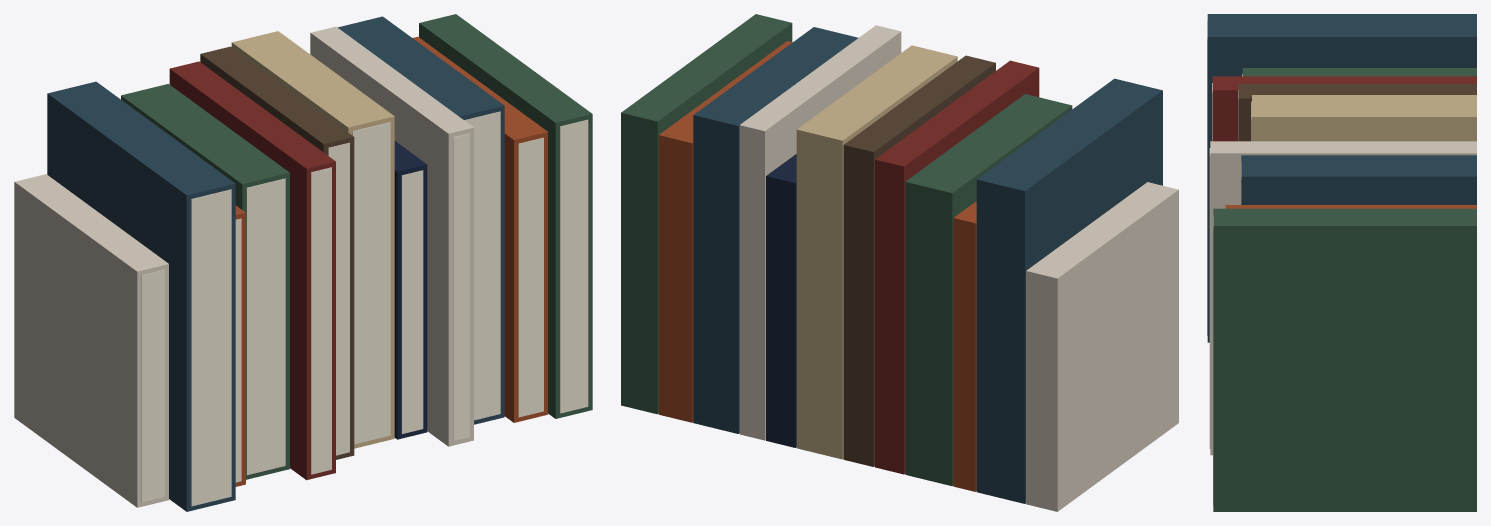
The model's file is ATL-BKR-std.glb.
3 renders of one model, left to right at view 1: azimuth 30°, elevation 25°; view 2: azimuth 150°, elevation 25°; view 3: azimuth 270°, elevation 25°, orthographic. The views are drawn at different scales.
Parts seen in each view (by area): view 1: ATL-BKR-std; view 2: ATL-BKR-std; view 3: ATL-BKR-std.
Part boxes in pixels (x1,y1,x2,y2): ATL-BKR-std: [14, 14, 592, 511]; ATL-BKR-std: [621, 14, 1178, 511]; ATL-BKR-std: [1207, 14, 1476, 511].
Size of the model in its own units: 0.399 by 0.2785 by 0.2188.
